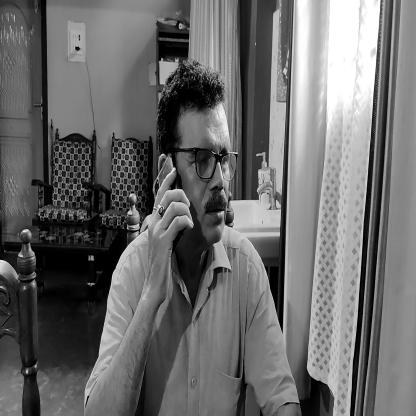Distracted: (154, 54, 233, 268)
